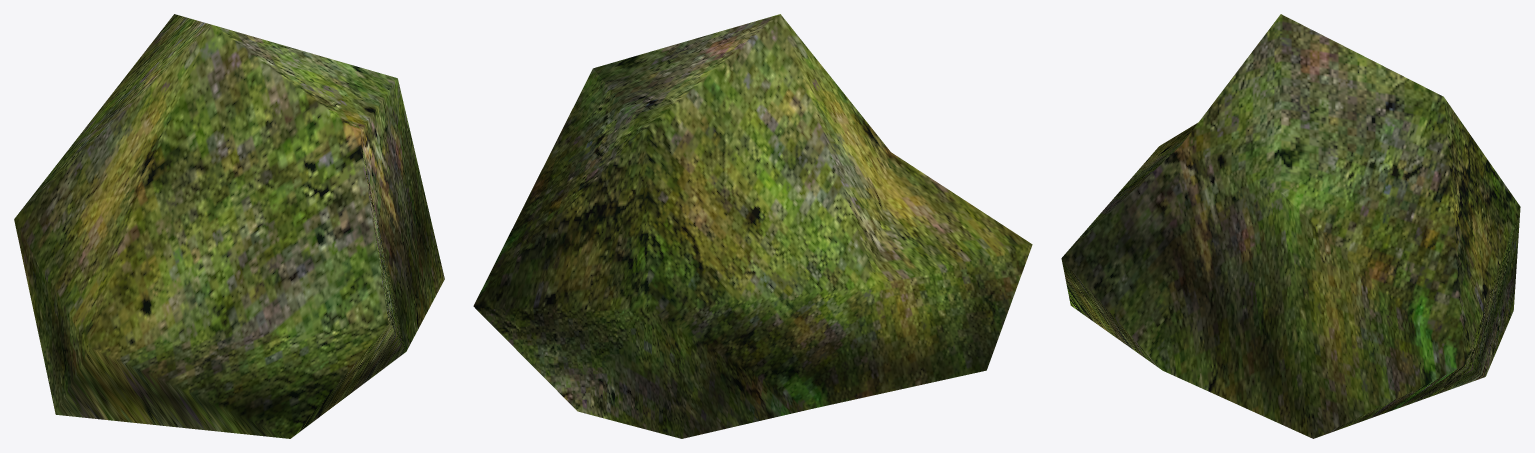
Rendered from rock_endr_mossyrock_sm_a1_l3.fbx.
The picture shows the model from 3 angles, left to right: view 1: azimuth 30°, elevation 25°; view 2: azimuth 150°, elevation 25°; view 3: azimuth 270°, elevation 25°; orthographic projection. The views are drawn at different scales.
Parts seen in each view (by area): view 1: mesh_node; view 2: mesh_node; view 3: mesh_node.
Part boxes in pixels (x1,y1,x2,y2): mesh_node: (14,14,444,438); mesh_node: (473,14,1032,438); mesh_node: (1061,14,1520,438).
Bounding box in the file's own units: 0.9206 × 0.6831 × 0.8883.
